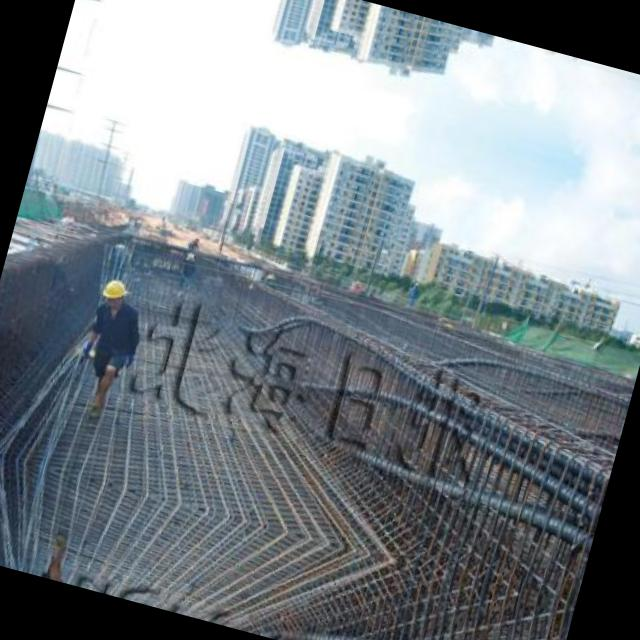helmet: (94, 272, 135, 312)
